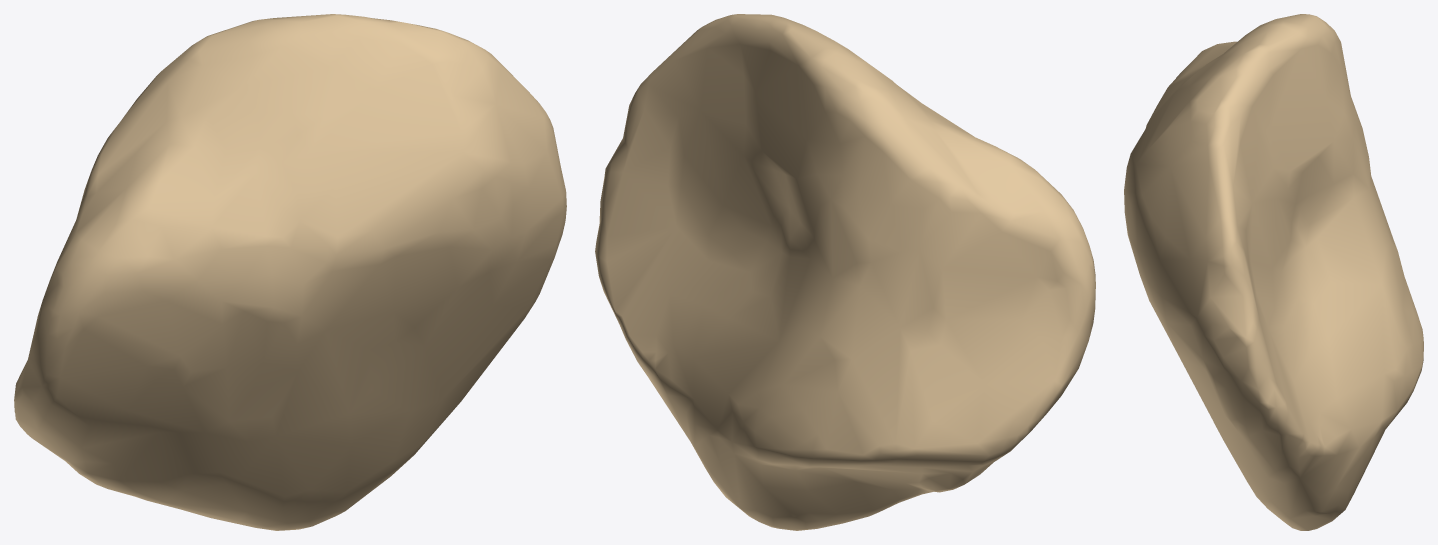
Rendered from explorar-patella.glb.
3 views of the same model, side by side, from view 1: azimuth 30°, elevation 25°; view 2: azimuth 150°, elevation 25°; view 3: azimuth 270°, elevation 25° (orthographic). The views are drawn at different scales.
Parts seen in each view (by area): view 1: patella_left__base, patella_left__base_superior, patella_left__vertice; view 2: patella_left__cara_articular, patella_left__base, patella_left__base_superior, patella_left__vertice; view 3: patella_left__base, patella_left__base_superior, patella_left__cara_articular, patella_left__vertice.
Part boxes in pixels (x1,y1,x2,y2): patella_left__base: (15,113,566,501); patella_left__base_superior: (97,14,553,247); patella_left__vertice: (114,403,459,530); patella_left__cara_articular: (601,140,1069,454); patella_left__base: (595,48,1095,484); patella_left__base_superior: (641,14,1018,250); patella_left__vertice: (649,378,972,530); patella_left__base: (1124,46,1423,487); patella_left__base_superior: (1130,14,1350,260); patella_left__cara_articular: (1256,69,1422,436); patella_left__vertice: (1249,404,1405,530).
Size of the model in its own units: 0.0419 by 0.0396 by 0.0223.
